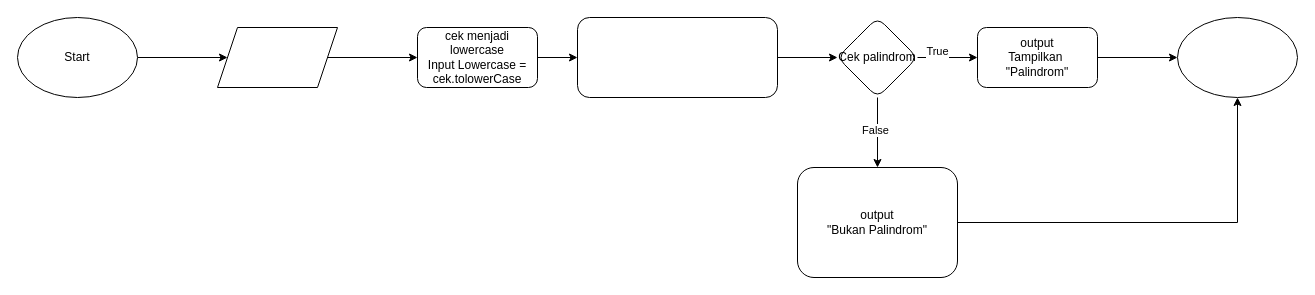
Image size: 1315x295. Some labels were removed from this diagram. Each missing label, with the centre of its shape:
"CekPalindrom = inputLowercase.split().reverse.join()" goes at [677,57].
"Input" goes at [277,57].
"Selesai" goes at [1237,57].
